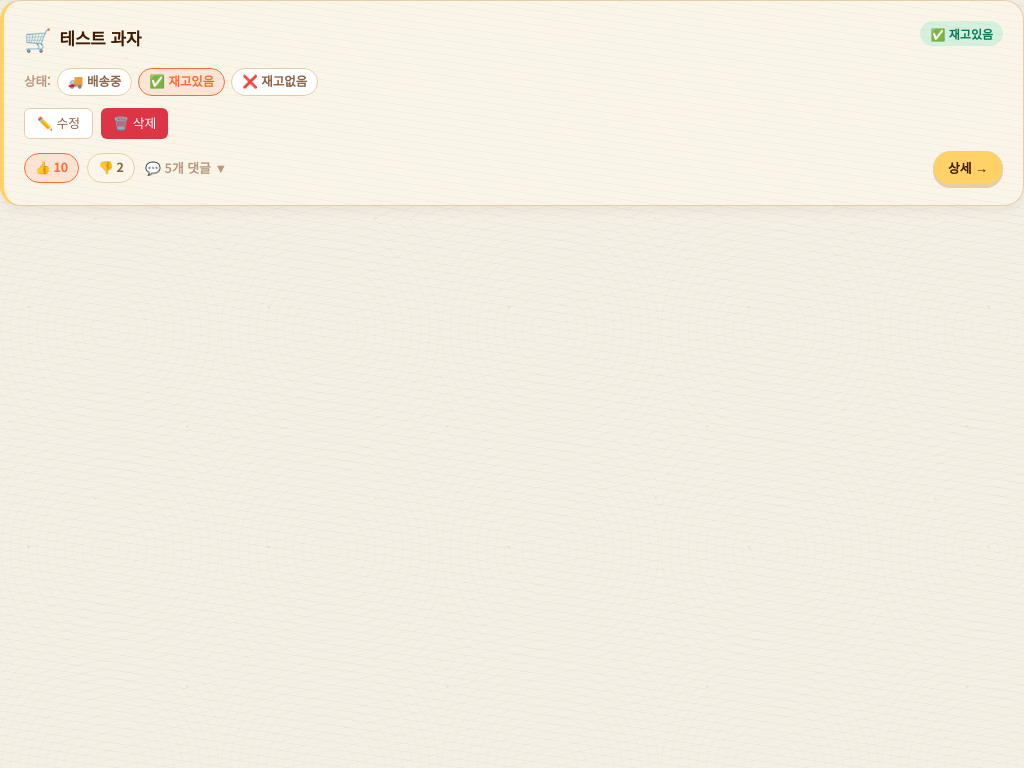
BoughtSnackCard › should enter edit mode when edit button is clicked
Click the button "✏️ 수정" at (59, 123), box [24,108,93,139]
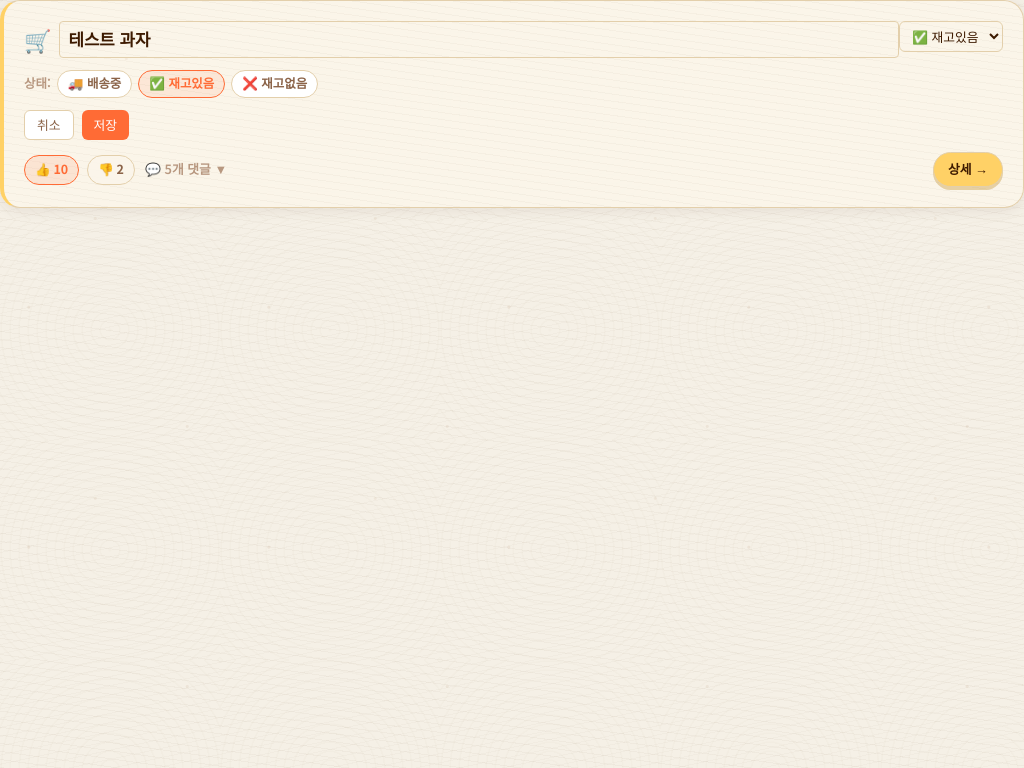
Check: the field showing "테스트 과자" is shown, box [60,21,899,58]
Check: the button "저장" is shown, box [82,110,129,140]
Check: the button "취소" is shown, box [24,110,74,140]
